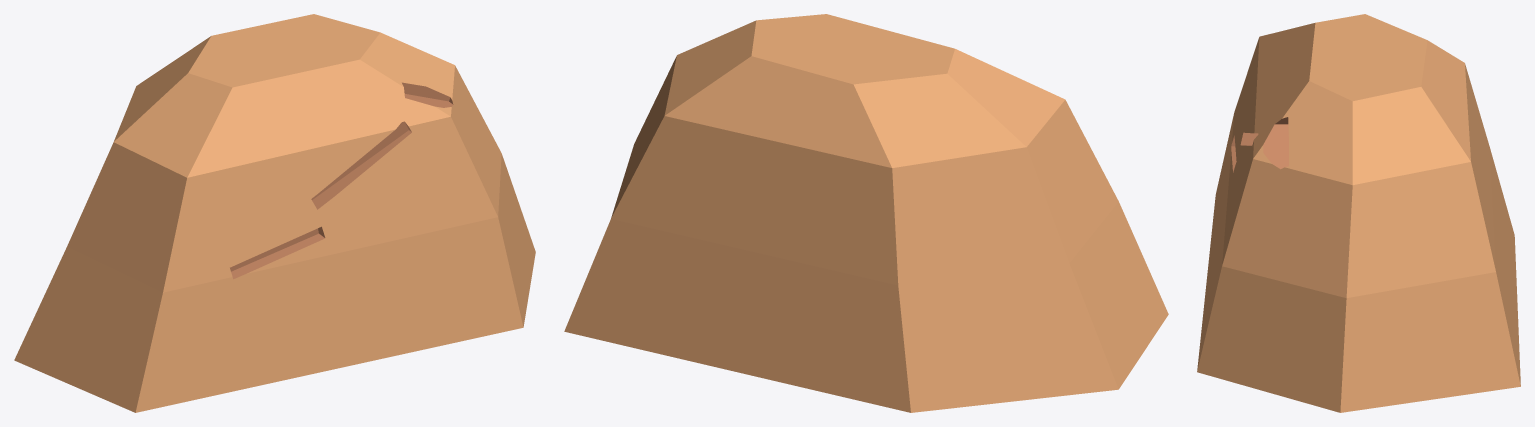
Rendered from DesertStoneLarge.glb.
The picture shows the model from 3 angles, left to right: view 1: azimuth 30°, elevation 25°; view 2: azimuth 150°, elevation 25°; view 3: azimuth 270°, elevation 25°; orthographic projection. The views are drawn at different scales.
Visible parts, largest first — view 1: DesertStoneLarge_Body, DesertStoneLarge_Crevices; view 2: DesertStoneLarge_Body; view 3: DesertStoneLarge_Body, DesertStoneLarge_Crevices.
Boxes of the visible parts, x1,y1,x2,y2 form: DesertStoneLarge_Body: (14,14,535,412); DesertStoneLarge_Crevices: (230,82,453,279); DesertStoneLarge_Body: (564,14,1168,412); DesertStoneLarge_Body: (1197,14,1520,412); DesertStoneLarge_Crevices: (1231,117,1288,172).
Bounding box in the file's own units: 3.08 × 1.47 × 1.79.
